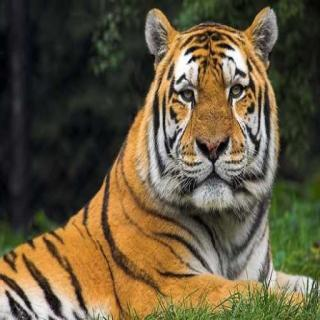Tiger: (0, 3, 306, 320)
